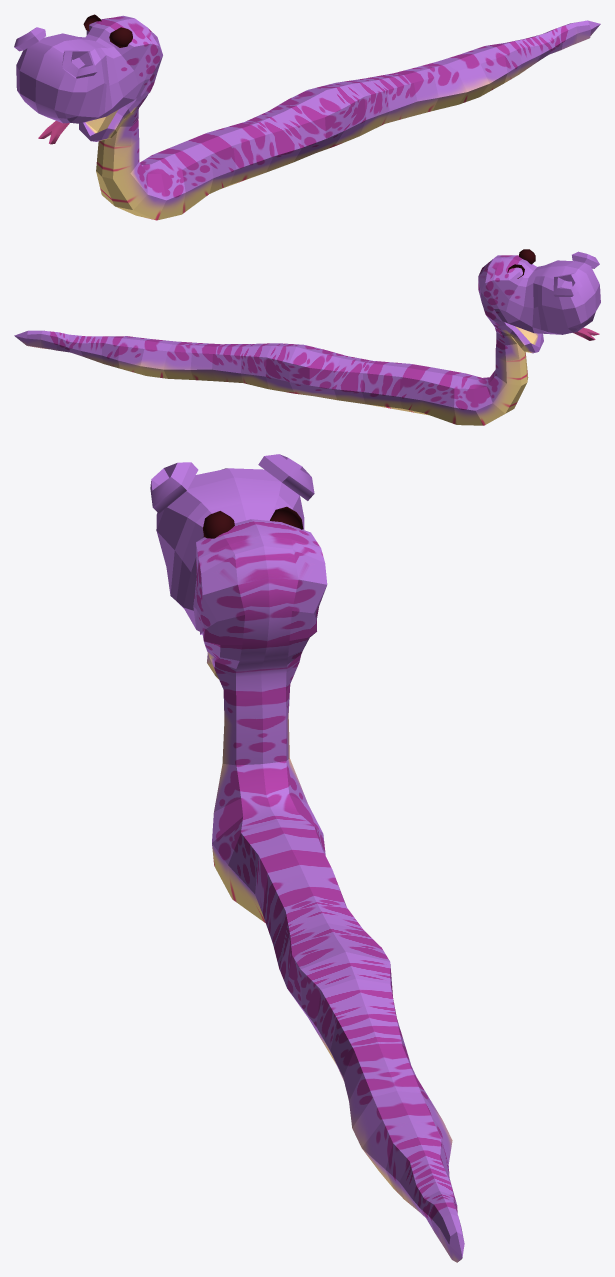
The model's file is Snake_OBJ.obj.
3 views of the same model, one above another, from view 1: azimuth 30°, elevation 25°; view 2: azimuth 150°, elevation 25°; view 3: azimuth 270°, elevation 25° (orthographic). The views are drawn at different scales.
Parts seen in each view (by area): view 1: Proxy Snake, Snake left_eye, Snake Lengua_proxy; view 2: Proxy Snake; view 3: Proxy Snake.
Part boxes in pixels (x1,y1,x2,y2): Proxy Snake: (14,15,600,220); Snake left_eye: (109,27,132,47); Snake Lengua_proxy: (38,121,69,144); Proxy Snake: (14,251,600,425); Proxy Snake: (150,454,464,1262).
Bounding box in the file's own units: 13.47 × 4.24 × 3.5.
Materials: 3 (1 with a texture image).
